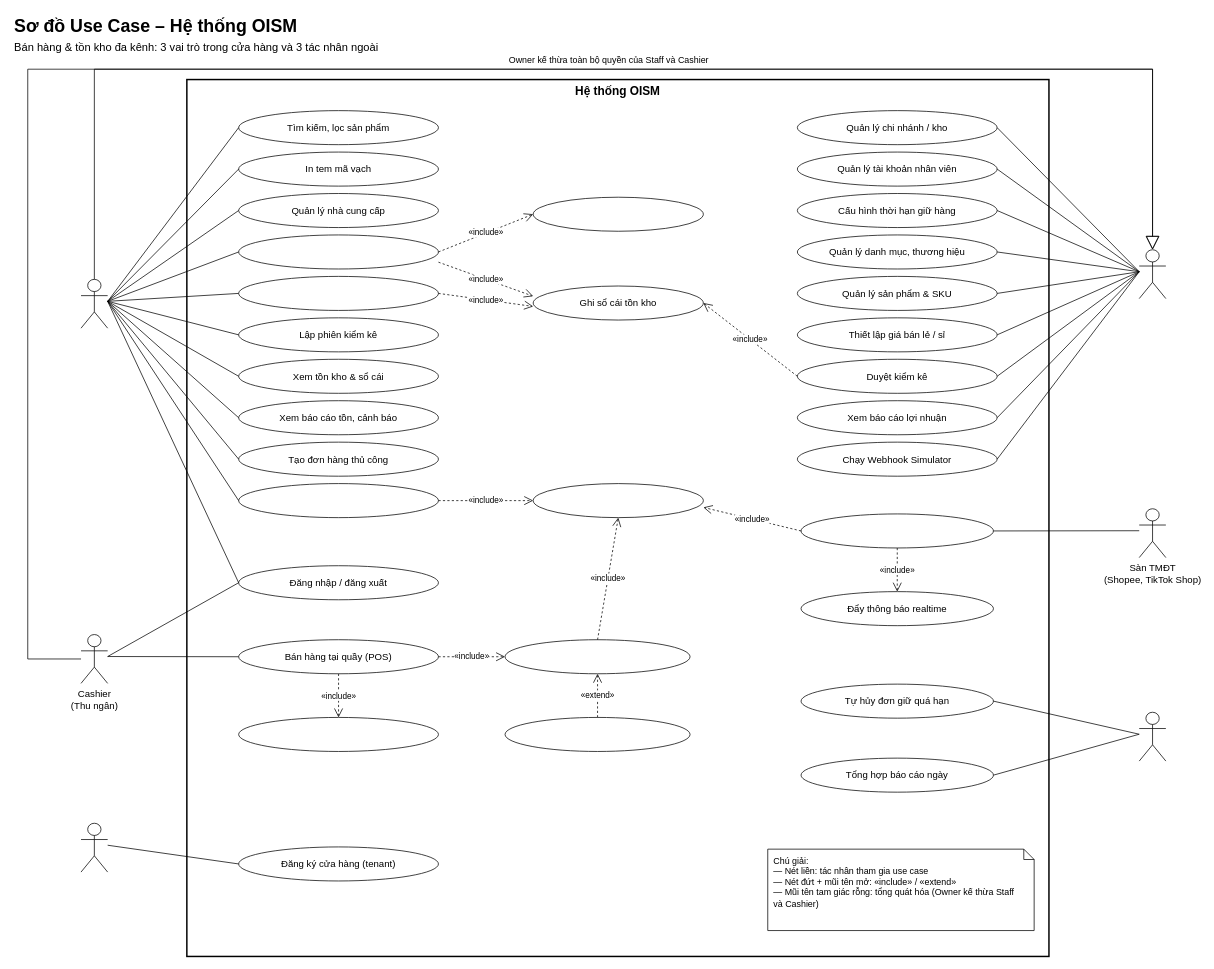
This 1214x969 diagram has some shape labels left out. The centre of each missing label's shape, as x and y in pixels:
Bộ lập lịch (@Scheduled): (x=1152, y=736)
Chuyển kho 2 bước: (x=338, y=293)
Giữ hàng / trừ kho (chống bán vượt): (x=617, y=500)
Gửi đơn qua webhook: (x=896, y=530)
In hóa đơn 80 mm: (x=597, y=734)
Khách (chưa đăng nhập): (x=94, y=847)
Nhập kho từ nhà cung cấp: (x=338, y=251)
Owner (Chủ cửa hàng): (x=1152, y=274)
Quét mã vạch / tìm sản phẩm: (x=338, y=734)
Staff (Nhân viên kho / đơn): (x=94, y=303)
Thanh toán tiền mặt / QR: (x=597, y=656)
Tính giá vốn bình quân: (x=617, y=213)
Xử lý đơn (giữ / duyệt / hủy): (x=338, y=500)
